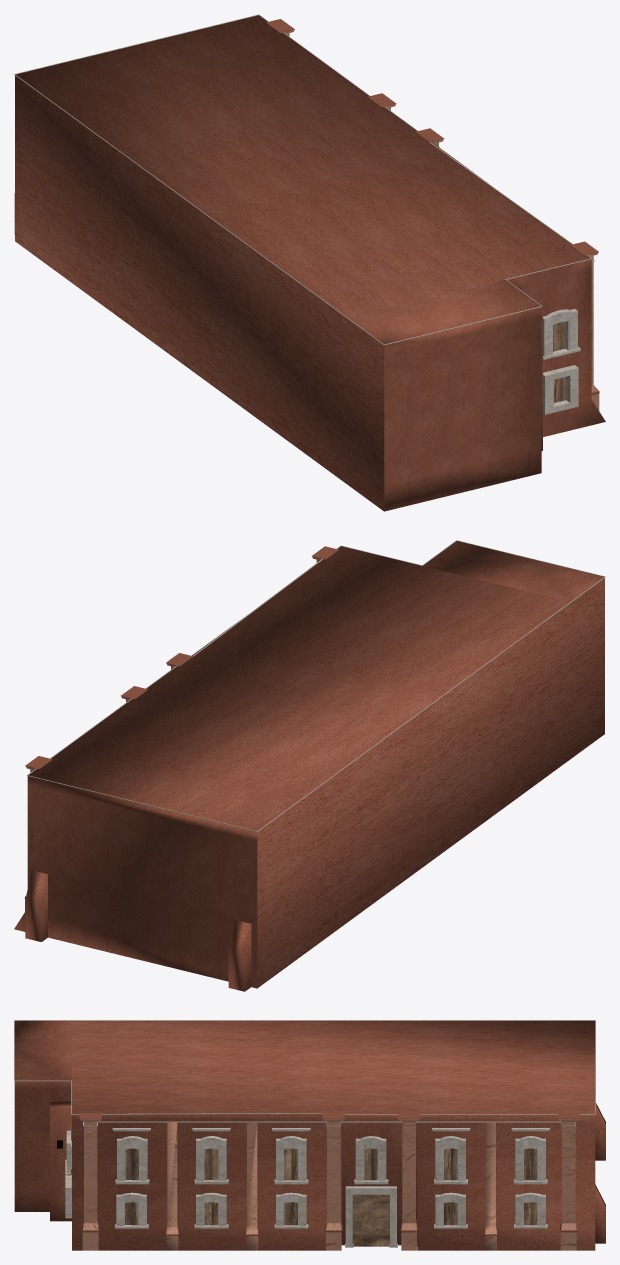
The model's file is Casa_10.glb.
3 views of the same model, one above another, from view 1: azimuth 30°, elevation 25°; view 2: azimuth 150°, elevation 25°; view 3: azimuth 270°, elevation 25° (orthographic). The views are drawn at different scales.
Visible parts, largest first — view 1: Edificio_Principal, Ventana_Roca, Dintel_Superior, Columnas_Principales.001, Madera_Ventanas, Columnas_Principales; view 2: Edificio_Principal, Dintel_Superior, Columnas_Principales.001; view 3: Edificio_Principal, Ventana_Roca, Columnas_Principales, Madera_Ventanas, Columnas_Secundarias, Dintel_Superior, Torre, Ventana_Puerta, Roca_Puerta, Columnas_Principales.001, Dintel.
Boxes of the visible parts, x1,y1,x2,y2 form: Edificio_Principal: (14,15,605,511); Ventana_Roca: (543,309,580,414); Dintel_Superior: (14,14,594,345); Columnas_Principales.001: (266,19,599,394); Madera_Ventanas: (553,321,566,402); Columnas_Principales: (284,30,599,410); Edificio_Principal: (14,541,604,991); Dintel_Superior: (26,540,605,831); Columnas_Principales.001: (24,546,338,898); Edificio_Principal: (14,1020,605,1250); Ventana_Roca: (65,1130,547,1228); Columnas_Principales: (80,1119,579,1250); Madera_Ventanas: (125,1148,537,1225); Columnas_Secundarias: (166,1122,496,1250); Dintel_Superior: (14,1020,595,1126); Torre: (50,1101,71,1221); Ventana_Puerta: (352,1194,389,1246); Roca_Puerta: (345,1186,397,1247); Columnas_Principales.001: (79,1113,579,1232); Dintel: (112,1128,549,1131).
Size of the model in its own units: 13.27 by 8.17 by 33.39.
Materials: 6 (5 with a texture image).
